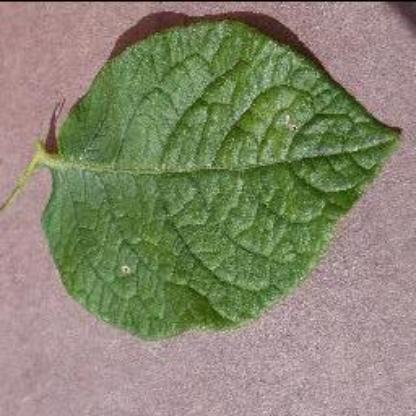Healthy-plant: (43, 3, 409, 377)
